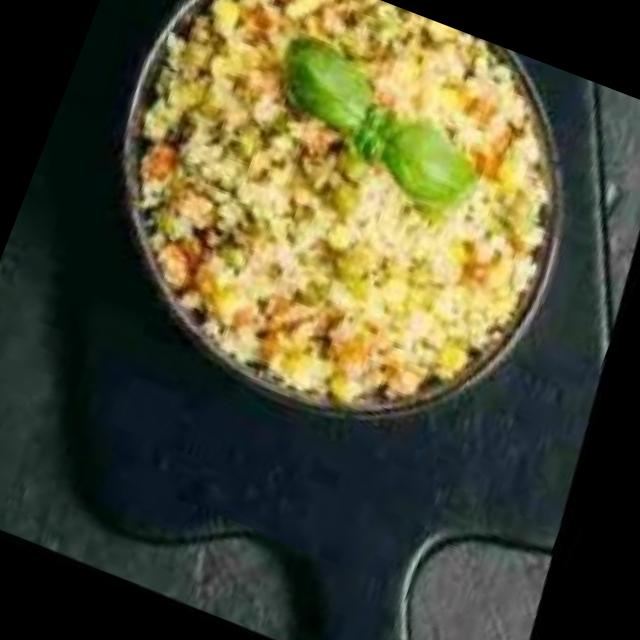poha: (63, 0, 633, 473)
